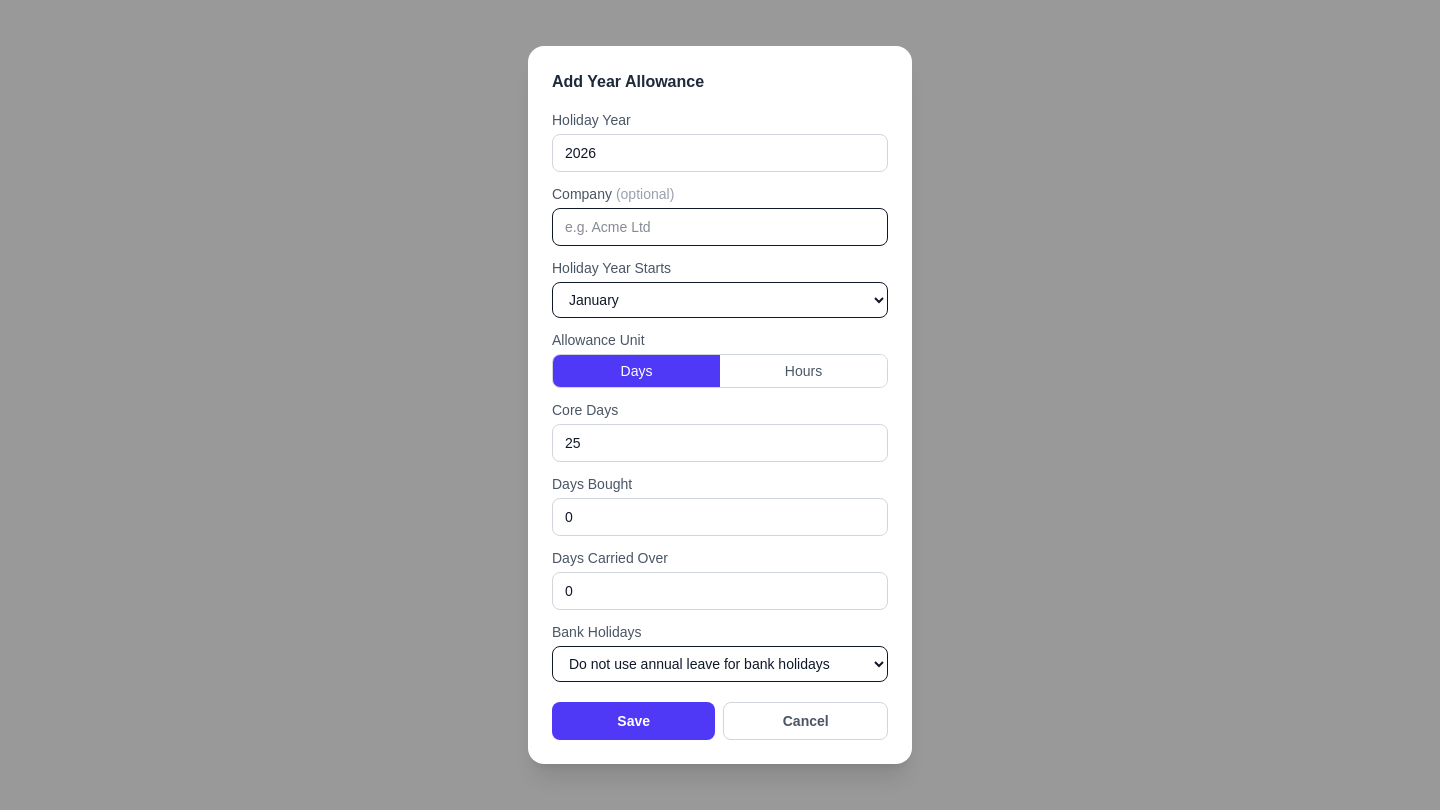
YearAllowanceModal — Hours/Days toggle › shows Core Daily Hours field when Hours mode is activated
Click the button "Hours" at point(804, 371), box x1=720 y1=355 x2=887 y2=387
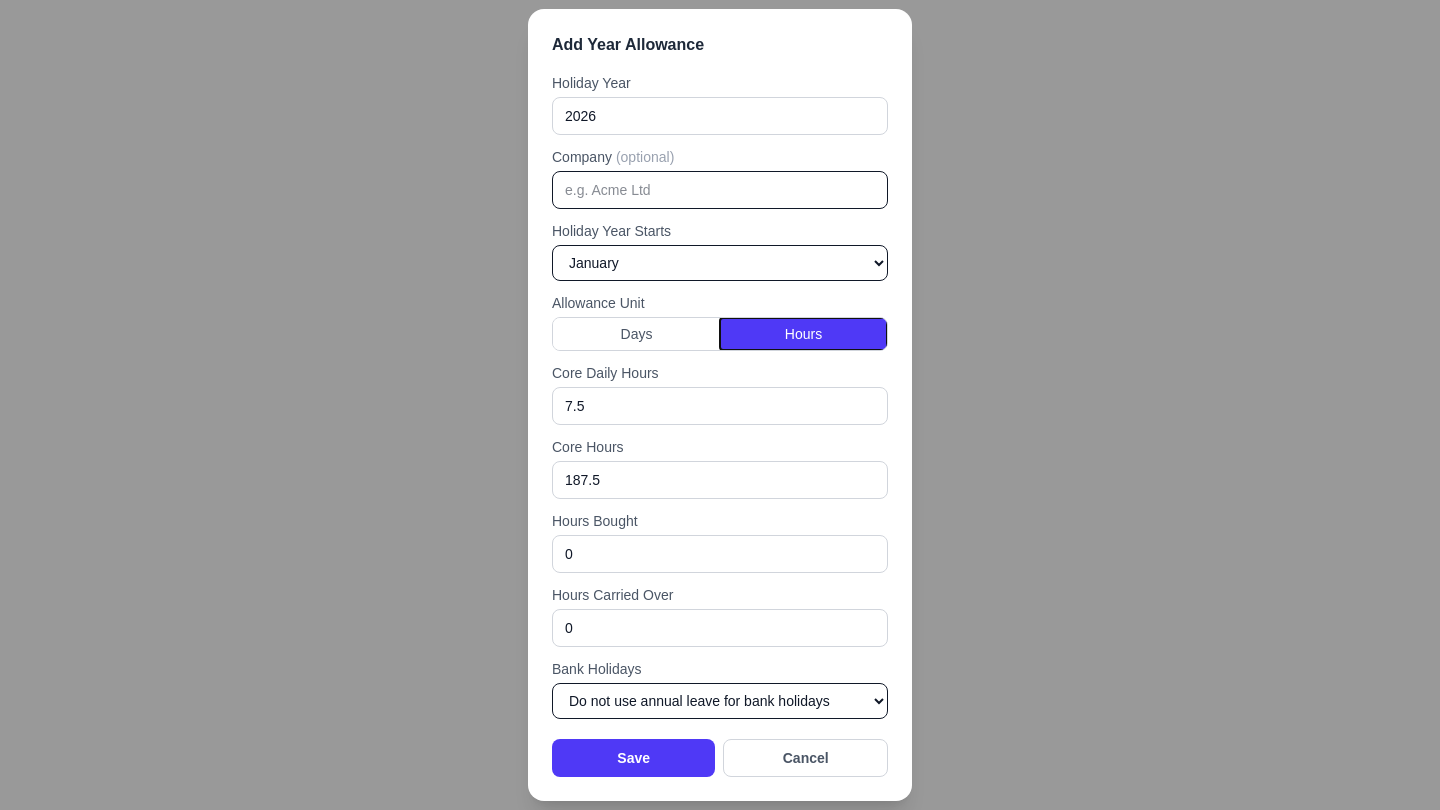
Now the number field labelled "Core Daily Hours" is shown, box x1=552 y1=387 x2=888 y2=425
